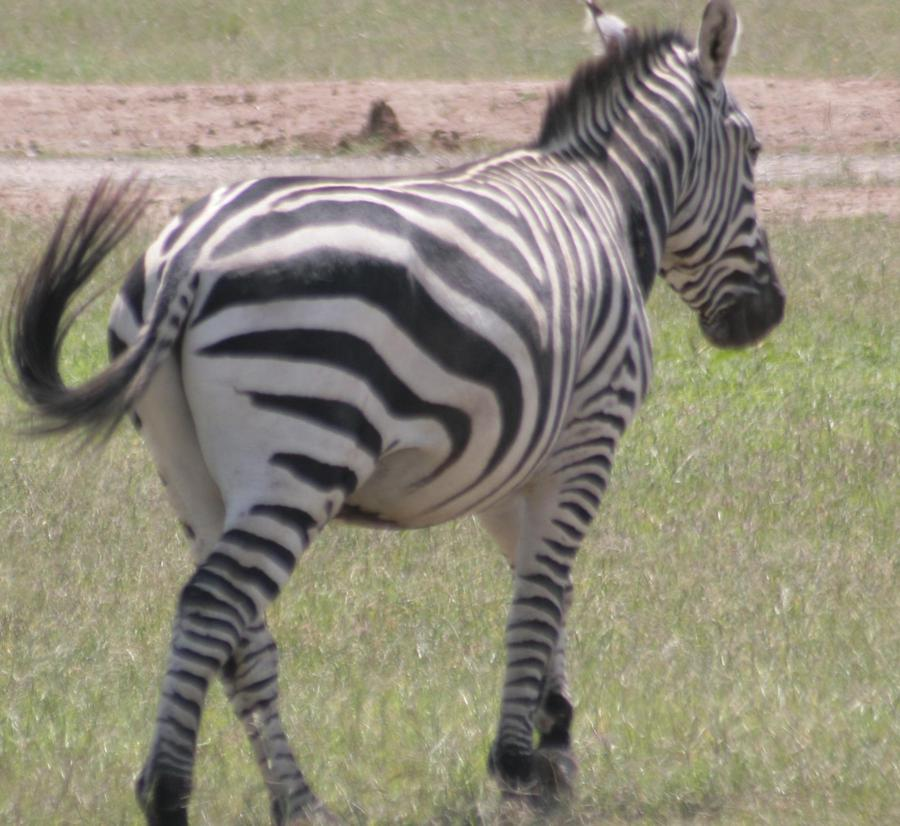zebra_plains: (217, 138, 658, 542)
